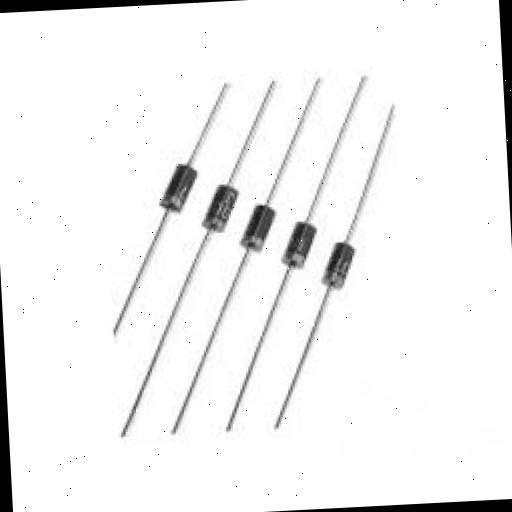DIODE: (124, 144, 224, 238), (226, 186, 289, 271), (314, 223, 372, 306), (194, 172, 250, 252), (278, 198, 314, 283)
